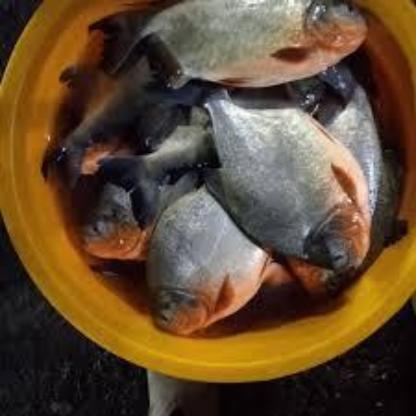ikan-pacu: (203, 98, 369, 262), (142, 181, 274, 321), (138, 0, 370, 78)
